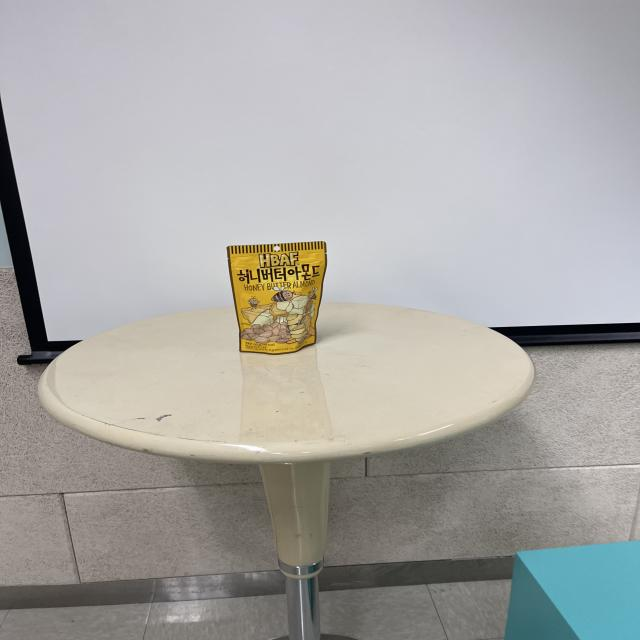honeyAmond: (225, 238, 326, 354)
